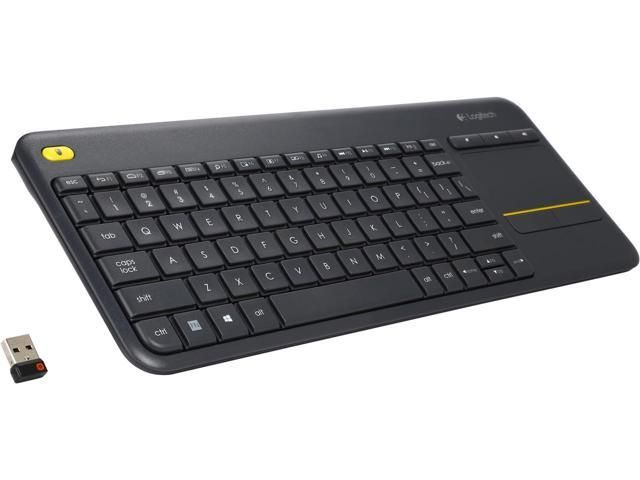logitech-keyboard-k400: (1, 87, 638, 381)
